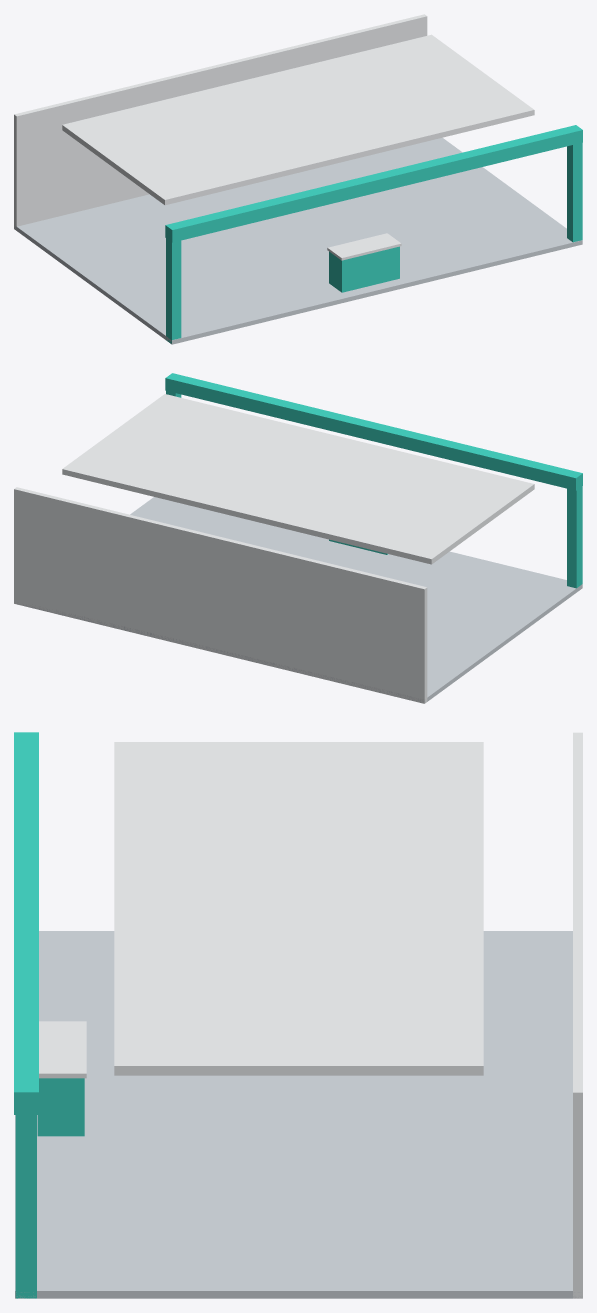
The picture shows the model from 3 angles, top to bottom: view 1: azimuth 30°, elevation 25°; view 2: azimuth 150°, elevation 25°; view 3: azimuth 270°, elevation 25°; orthographic projection. The views are drawn at different scales.
Parts seen in each view (by area): view 1: Exhibition Booth Concept; view 2: Exhibition Booth Concept; view 3: Exhibition Booth Concept.
Boxes of the visible parts, <box> form: Exhibition Booth Concept: <box>14,14,582,344</box>; Exhibition Booth Concept: <box>14,373,582,703</box>; Exhibition Booth Concept: <box>14,732,582,1298</box>.
Size of the model in its own units: 12 by 3.34 by 8.01.
